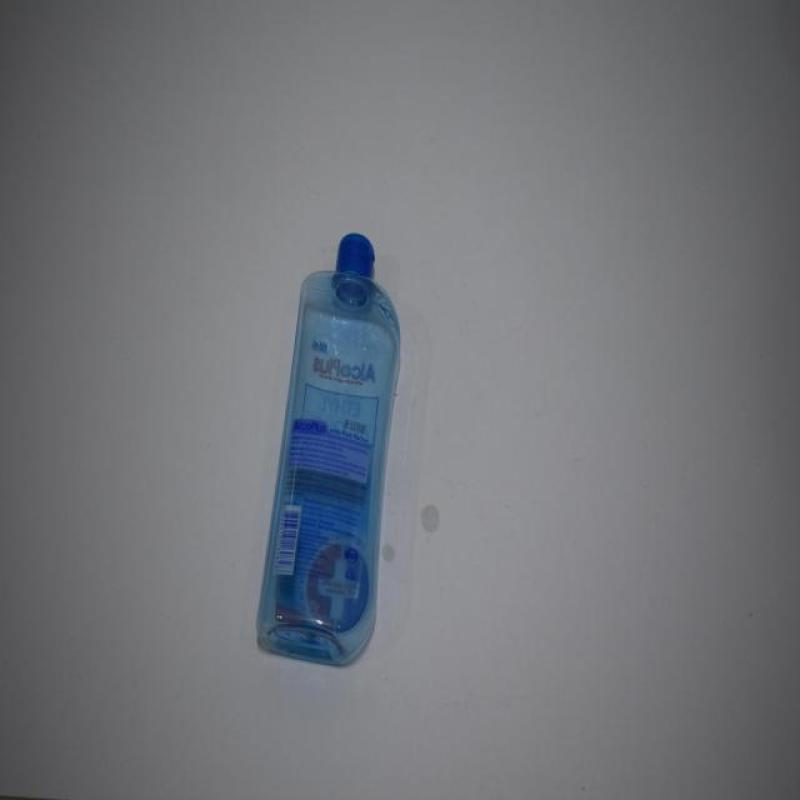botella: (257, 235, 402, 664)
